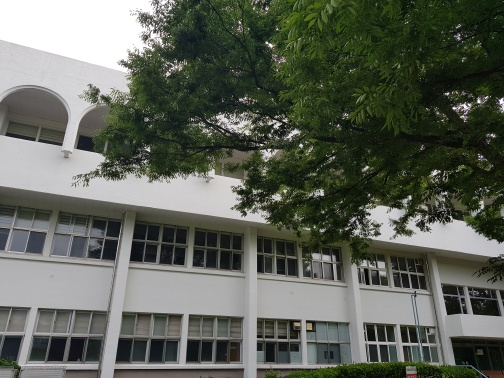Main Building of University: (11, 48, 498, 371)
